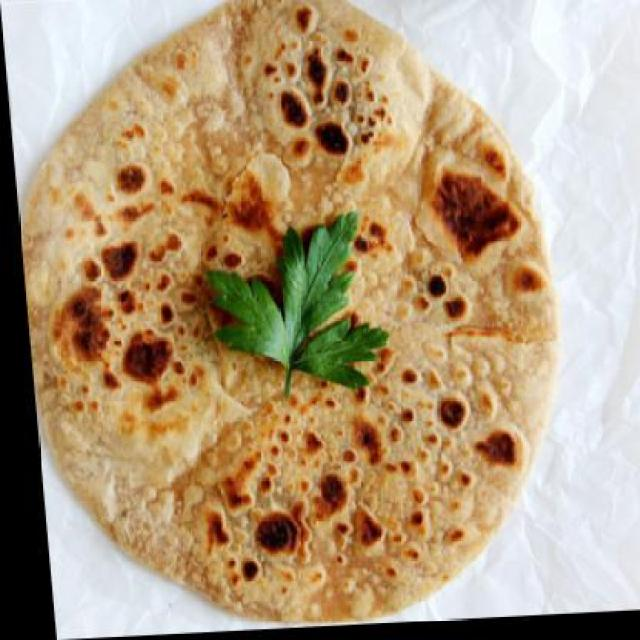chapati: (0, 0, 571, 635)
